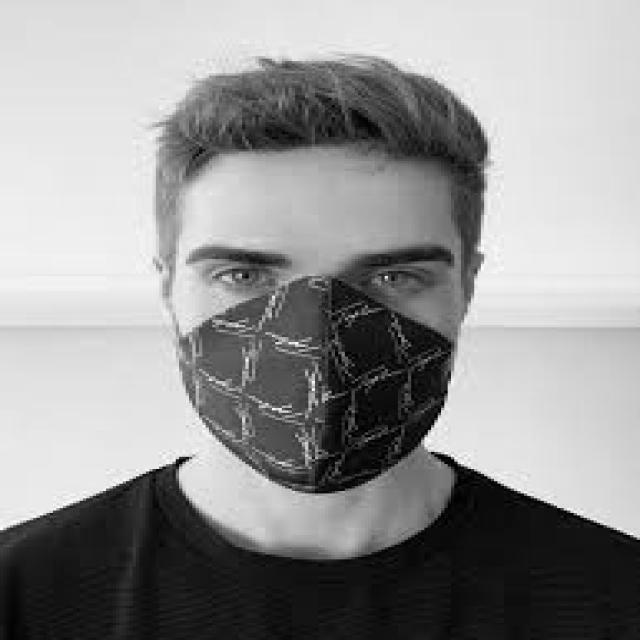fake: (126, 267, 502, 517)
real: (170, 150, 470, 510)
